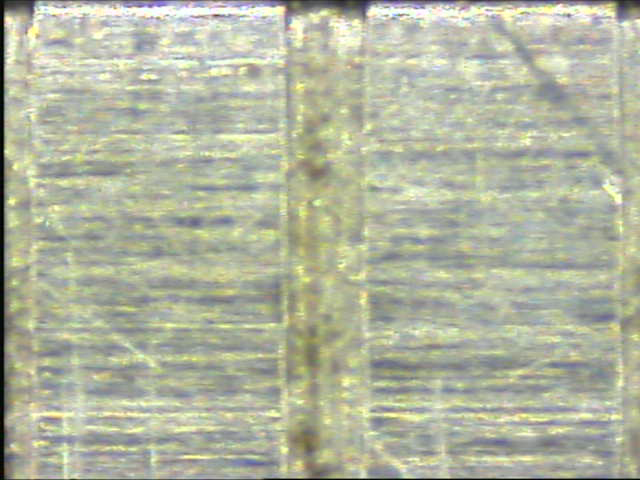line: (277, 1, 373, 472)
